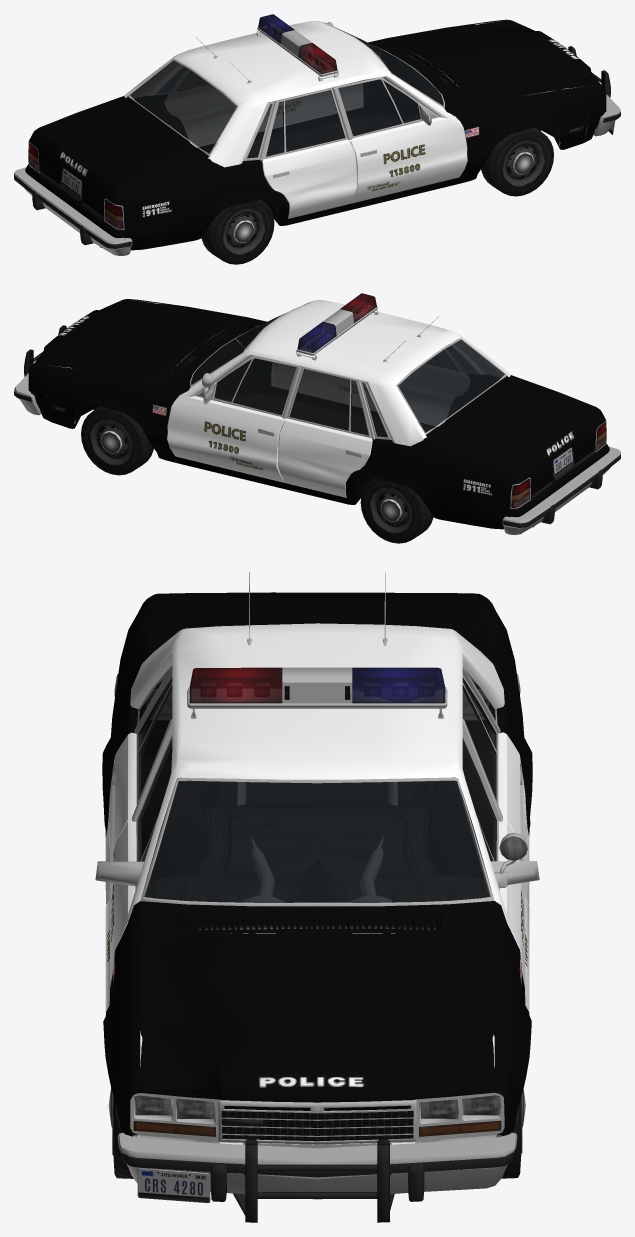
File: cop_lod.gltf
3 views of the same model, one above another, from view 1: azimuth 30°, elevation 25°; view 2: azimuth 150°, elevation 25°; view 3: azimuth 270°, elevation 25° (orthographic). The views are drawn at different scales.
Visible parts, largest first — view 1: Fairheaven_LT80_body001_Fairheaven_LT80_Bodymat_0, Fairheaven_LT80_trunk_door001_Fairheaven_LT80_Bodymat_0, Fairheaven_LT80_Hood001_Fairheaven_LT80_Bodymat_0, Fairheaven_LT80_Glass_Rear001_UCB_Lights_and_Glass_Transpere, Fairheaven_LT80_Bottom001_UCB_BOTTOM_GT_0, Fairheaven_LT80_Glass_Body001_UCB_Lights_and_Glass_Transpere, Fairheaven_LT80_Trim_UCB_BOTTOM_GT_0, Fairheaven_LT80_WheelStamp_FR_RB1c_Tire_1k_0, Fairheaven_LT80_WheelStamp_RR_RB1c_Tire_1k_0, Fairheaven_LT80_Glass_Passanger002_UCB_Lights_and_Glass_Tran, Fairheaven_LT80_bumper_rear001_UCB_BOTTOM_GT_0, Fairheaven_LT80_Lightbar_UCB_BOTTOM_GT_0 (+7 smaller); view 2: Fairheaven_LT80_body001_Fairheaven_LT80_Bodymat_0, Fairheaven_LT80_trunk_door001_Fairheaven_LT80_Bodymat_0, Fairheaven_LT80_Hood001_Fairheaven_LT80_Bodymat_0, Fairheaven_LT80_Glass_Rear001_UCB_Lights_and_Glass_Transpere, Fairheaven_LT80_Bottom001_UCB_BOTTOM_GT_0, Fairheaven_LT80_Glass_Body001_UCB_Lights_and_Glass_Transpere, Fairheaven_LT80_Trim_UCB_BOTTOM_GT_0, Fairheaven_LT80_WheelStamp_FL_RB1c_Tire_1k_0, Fairheaven_LT80_WheelStamp_RL_RB1c_Tire_1k_0, Fairheaven_LT80_Glass_Driver002_UCB_Lights_and_Glass_Transpe, Fairheaven_LT80_bumper_rear001_UCB_BOTTOM_GT_0, Fairheaven_LT80_Lightbar_UCB_BOTTOM_GT_0 (+7 smaller); view 3: Fairheaven_LT80_body001_Fairheaven_LT80_Bodymat_0, Fairheaven_LT80_Hood001_Fairheaven_LT80_Bodymat_0, Fairheaven_LT80_Bottom001_UCB_BOTTOM_GT_0, Fairheaven_LT80_Windshield001_UCB_Lights_and_Glass_Transpere, Fairheaven_LT80_Bumper_Front001_UCB_BOTTOM_GT_0, Fairheaven_LT80_Front_Plate_Inner001_UCB_BOTTOM_GT_0, Fairheaven_LT80_trunk_door001_Fairheaven_LT80_Bodymat_0, Fairheaven_LT80_Trim_UCB_BOTTOM_GT_0, Fairheaven_LT80_Lightbar_UCB_BOTTOM_GT_0, Fairheaven_LT80_Lightbar_Glass_UCB_Lights_and_Glass_Transper, Fairheaven_LT80_Headlights_Glass001_UCB_Lights_and_Glass_Tra, Fairheaven_LT80_Bullbar_UCB_BOTTOM_GT_0 (+7 smaller).
Part boxes in pixels (box(x1,y1,x2,y2)): Fairheaven_LT80_body001_Fairheaven_LT80_Bodymat_0: box(25, 21, 587, 250); Fairheaven_LT80_trunk_door001_Fairheaven_LT80_Bodymat_0: box(32, 98, 207, 220); Fairheaven_LT80_Hood001_Fairheaven_LT80_Bodymat_0: box(385, 20, 602, 104); Fairheaven_LT80_Glass_Rear001_UCB_Lights_and_Glass_Transpere: box(130, 60, 236, 153); Fairheaven_LT80_Bottom001_UCB_BOTTOM_GT_0: box(100, 47, 583, 247); Fairheaven_LT80_Glass_Body001_UCB_Lights_and_Glass_Transpere: box(160, 67, 344, 158); Fairheaven_LT80_Trim_UCB_BOTTOM_GT_0: box(28, 22, 444, 229); Fairheaven_LT80_WheelStamp_FR_RB1c_Tire_1k_0: box(481, 127, 553, 196); Fairheaven_LT80_WheelStamp_RR_RB1c_Tire_1k_0: box(201, 199, 274, 264); Fairheaven_LT80_Glass_Passanger002_UCB_Lights_and_Glass_Tran: box(338, 79, 419, 135); Fairheaven_LT80_bumper_rear001_UCB_BOTTOM_GT_0: box(14, 167, 132, 255); Fairheaven_LT80_Lightbar_UCB_BOTTOM_GT_0: box(256, 22, 338, 81); Fairheaven_LT80_body001_Fairheaven_LT80_Bodymat_0: box(47, 300, 609, 529); Fairheaven_LT80_trunk_door001_Fairheaven_LT80_Bodymat_0: box(428, 377, 603, 499); Fairheaven_LT80_Hood001_Fairheaven_LT80_Bodymat_0: box(32, 299, 249, 383); Fairheaven_LT80_Glass_Rear001_UCB_Lights_and_Glass_Transpere: box(398, 339, 504, 432); Fairheaven_LT80_Bottom001_UCB_BOTTOM_GT_0: box(51, 326, 534, 527); Fairheaven_LT80_Glass_Body001_UCB_Lights_and_Glass_Transpere: box(290, 345, 474, 437); Fairheaven_LT80_Trim_UCB_BOTTOM_GT_0: box(190, 301, 606, 508); Fairheaven_LT80_WheelStamp_FL_RB1c_Tire_1k_0: box(81, 406, 153, 475); Fairheaven_LT80_WheelStamp_RL_RB1c_Tire_1k_0: box(360, 478, 433, 543); Fairheaven_LT80_Glass_Driver002_UCB_Lights_and_Glass_Transpe: box(215, 358, 296, 414); Fairheaven_LT80_bumper_rear001_UCB_BOTTOM_GT_0: box(502, 446, 620, 534); Fairheaven_LT80_Lightbar_UCB_BOTTOM_GT_0: box(296, 301, 378, 360); Fairheaven_LT80_body001_Fairheaven_LT80_Bodymat_0: box(102, 593, 532, 1132); Fairheaven_LT80_Hood001_Fairheaven_LT80_Bodymat_0: box(140, 933, 494, 1102); Fairheaven_LT80_Bottom001_UCB_BOTTOM_GT_0: box(116, 721, 519, 1130); Fairheaven_LT80_Windshield001_UCB_Lights_and_Glass_Transpere: box(144, 780, 490, 902); Fairheaven_LT80_Bumper_Front001_UCB_BOTTOM_GT_0: box(117, 1132, 517, 1201); Fairheaven_LT80_Front_Plate_Inner001_UCB_BOTTOM_GT_0: box(130, 1060, 504, 1144); Fairheaven_LT80_trunk_door001_Fairheaven_LT80_Bodymat_0: box(154, 592, 480, 651); Fairheaven_LT80_Trim_UCB_BOTTOM_GT_0: box(95, 625, 539, 906); Fairheaven_LT80_Lightbar_UCB_BOTTOM_GT_0: box(187, 667, 447, 718); Fairheaven_LT80_Lightbar_Glass_UCB_Lights_and_Glass_Transper: box(189, 667, 445, 703); Fairheaven_LT80_Headlights_Glass001_UCB_Lights_and_Glass_Tra: box(133, 1095, 501, 1136); Fairheaven_LT80_Bullbar_UCB_BOTTOM_GT_0: box(233, 1139, 394, 1222).
Bounding box in the file's own units: 5.07 × 1.57 × 1.82.
Materials: 6 (6 with a texture image).
